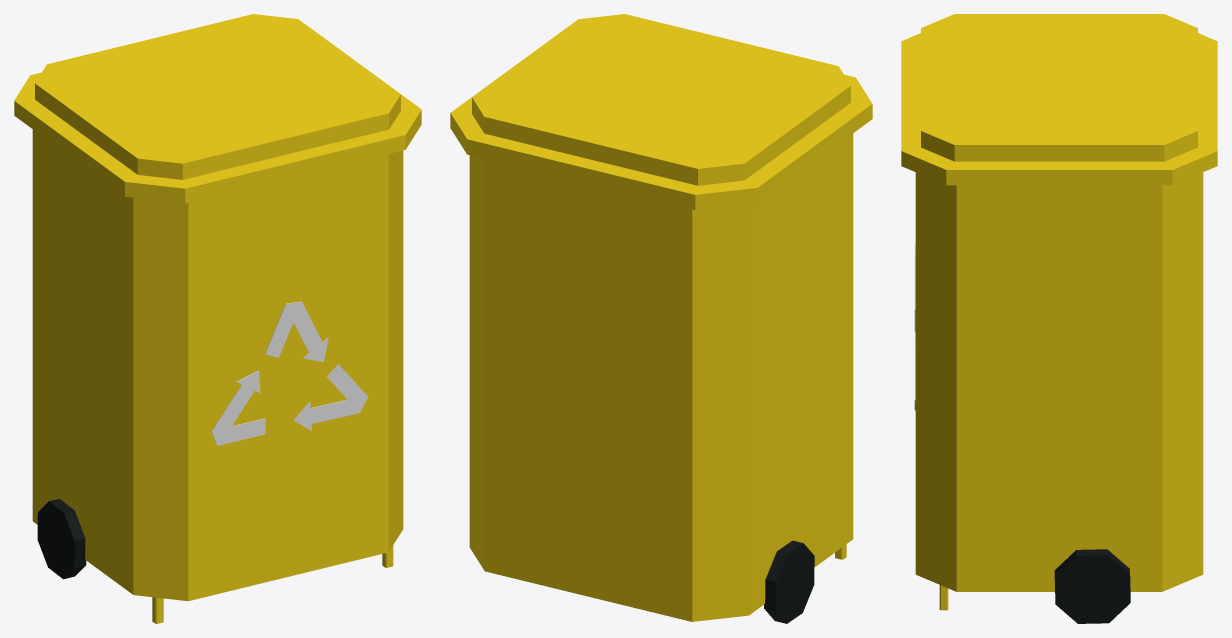
The model's file is trash_yellow_H.fbx.
The picture shows the model from 3 angles, left to right: view 1: azimuth 30°, elevation 25°; view 2: azimuth 150°, elevation 25°; view 3: azimuth 270°, elevation 25°; orthographic projection. The views are drawn at different scales.
Visible parts, largest first — view 1: Cube.002, Cube.008; view 2: Cube.002, Cube.008; view 3: Cube.002, Cube.008.
Boxes of the visible parts, bbox=[...] form: Cube.002: bbox=[32, 129, 403, 623]; Cube.008: bbox=[14, 14, 421, 203]; Cube.002: bbox=[469, 133, 853, 623]; Cube.008: bbox=[450, 14, 872, 210]; Cube.002: bbox=[914, 172, 1203, 623]; Cube.008: bbox=[901, 14, 1217, 185].
Size of the model in its own units: 0.7937 by 0.7181 by 1.18.
1 material, 1 textured.
